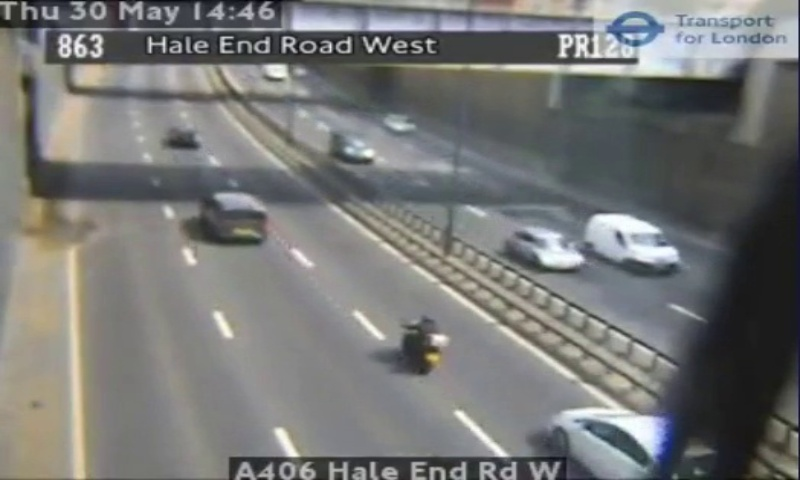motorcycle: (401, 313, 447, 373)
van: (203, 190, 267, 242)
